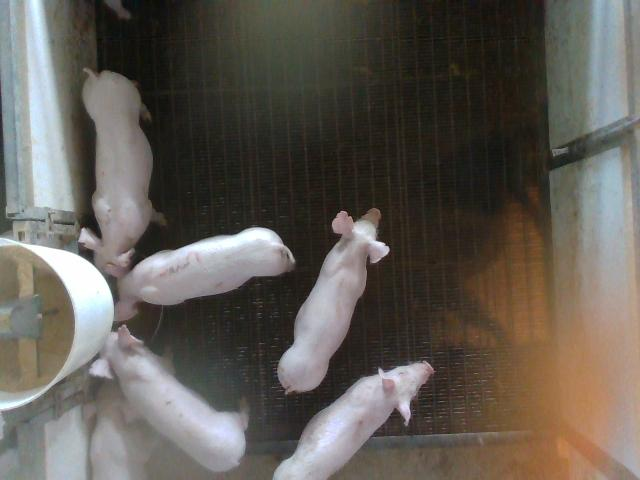pig-3: (102, 228, 295, 321)
